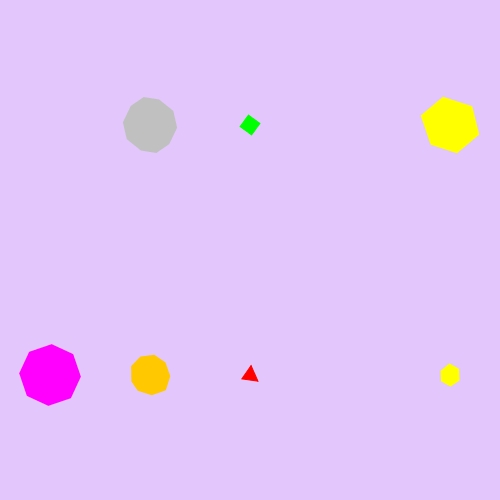decagon: (118, 96, 182, 155)
hexagon: (416, 97, 484, 153), (435, 362, 466, 389)
nonagon: (126, 352, 175, 399)
octagon: (16, 341, 85, 410)
quadrilateral: (235, 110, 265, 140)
triangle: (238, 362, 263, 388)
